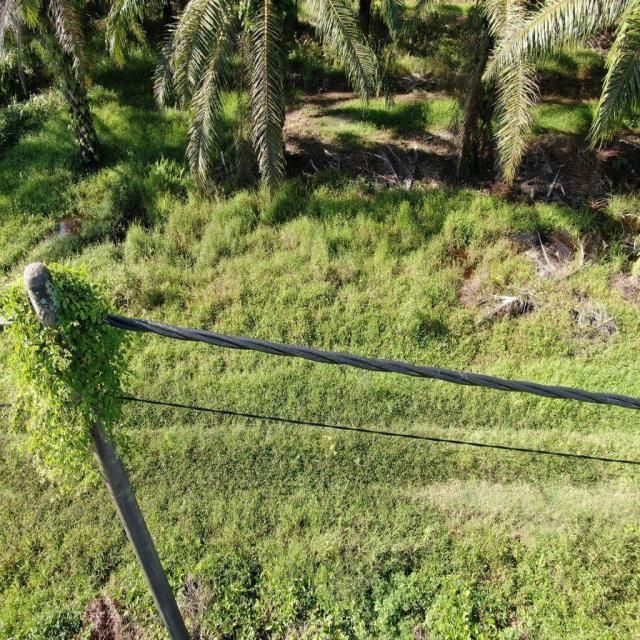critical vegetation: (1, 258, 138, 467)
